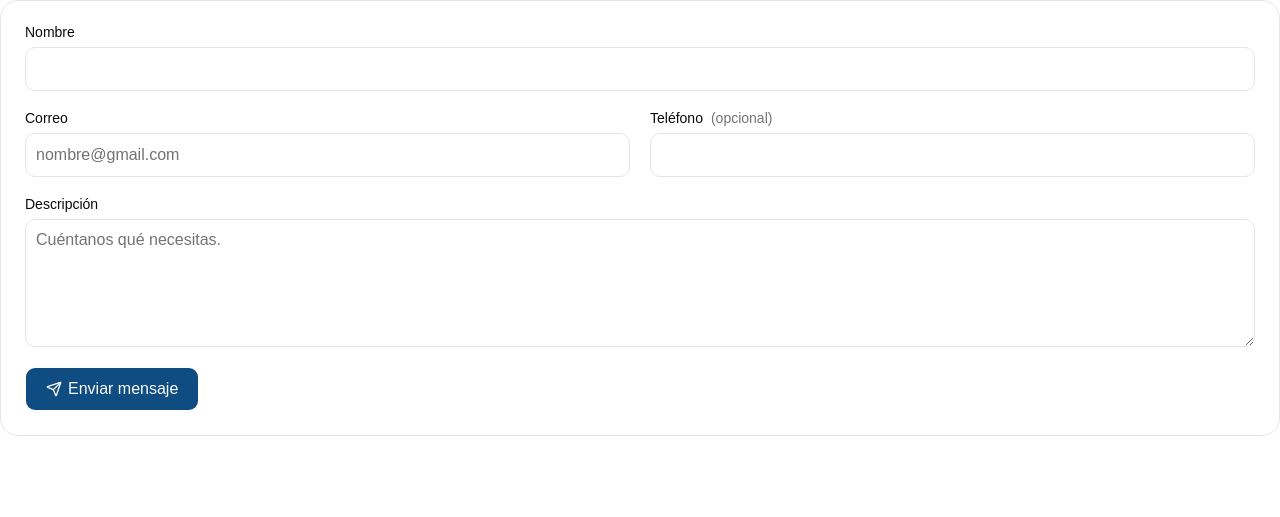
Test: ContactForm › confirma la recepción cuando el envío termina bien
Type "Ana" into the field labelled "Nombre". click: [640, 69]
box: x1=25 y1=47 x2=1255 y2=91
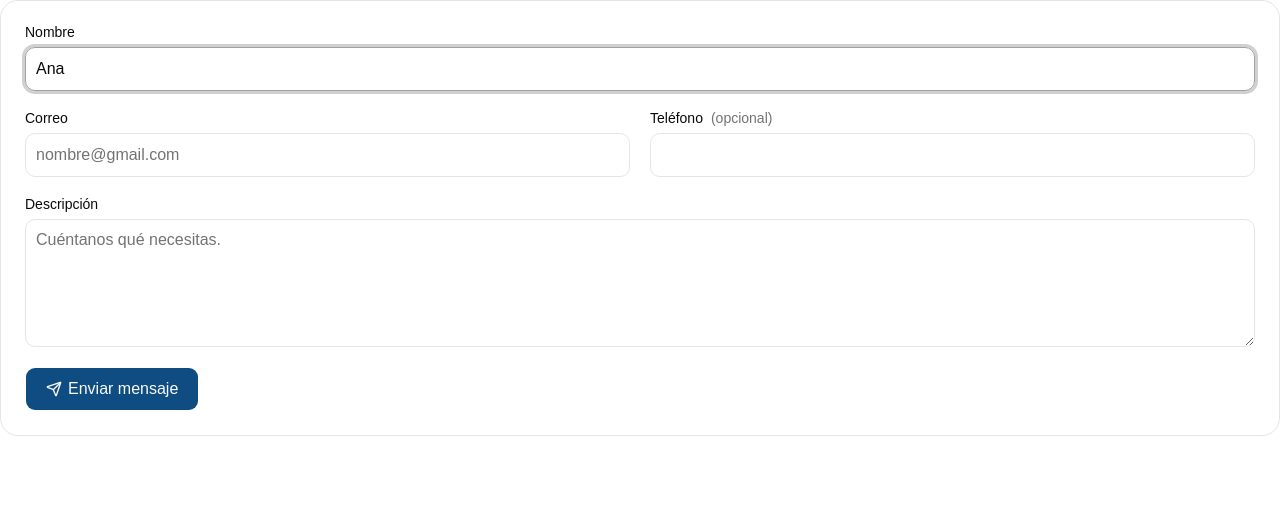
Type "ana@gmail.com" into the field labelled "Correo". click: [328, 155]
box: x1=25 y1=133 x2=630 y2=177
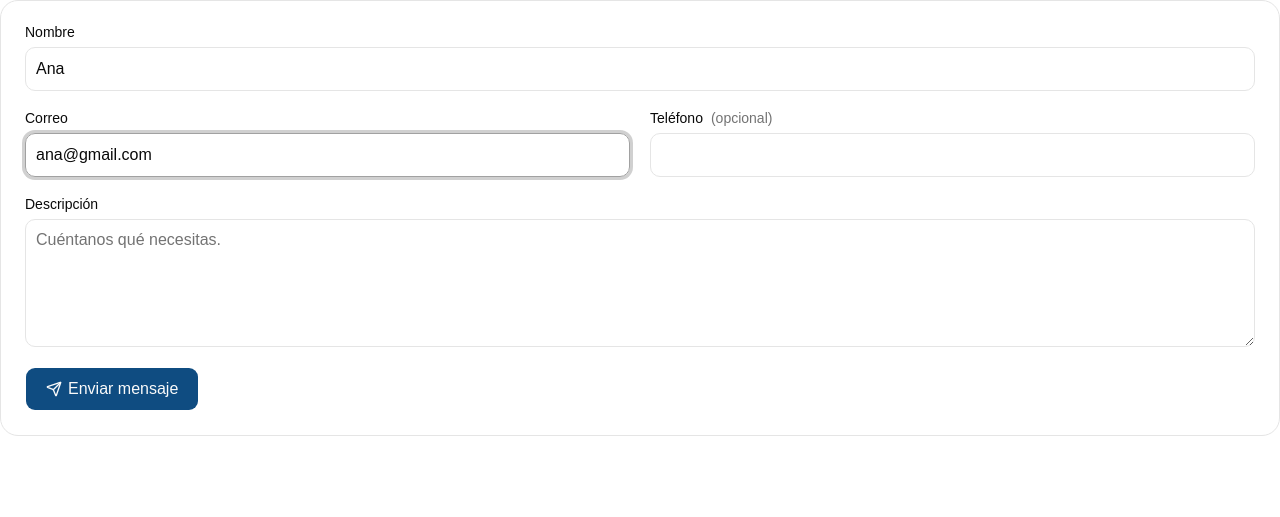
Type "Quiero publicar mi casa." into the text box labelled "Descripción". click: [640, 283]
box: x1=25 y1=219 x2=1255 y2=347
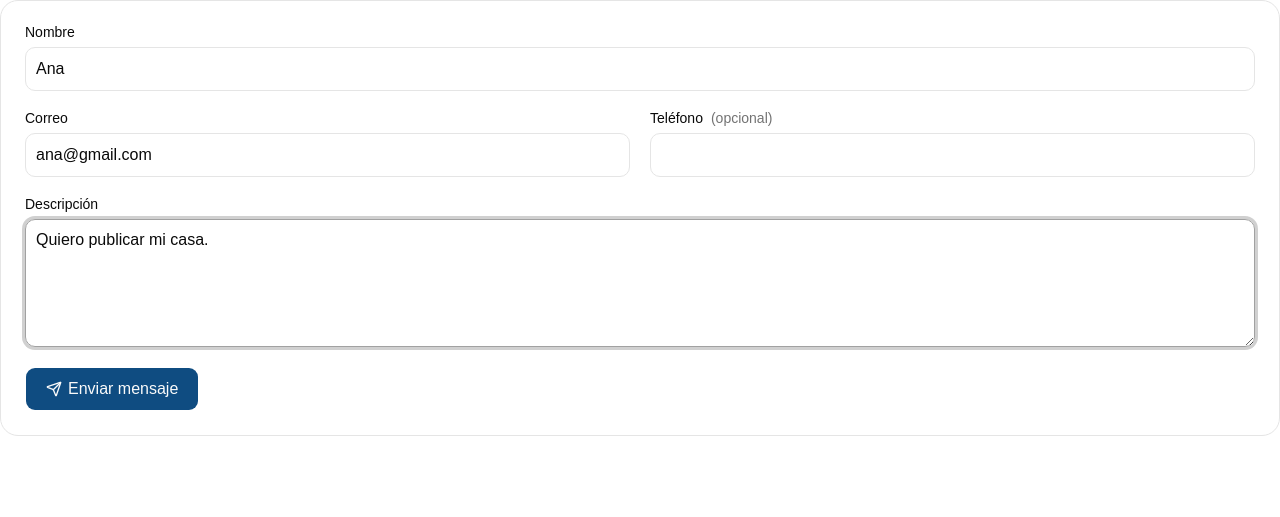
Click the button "Enviar mensaje". click: [112, 389]
box: x1=25 y1=367 x2=199 y2=411
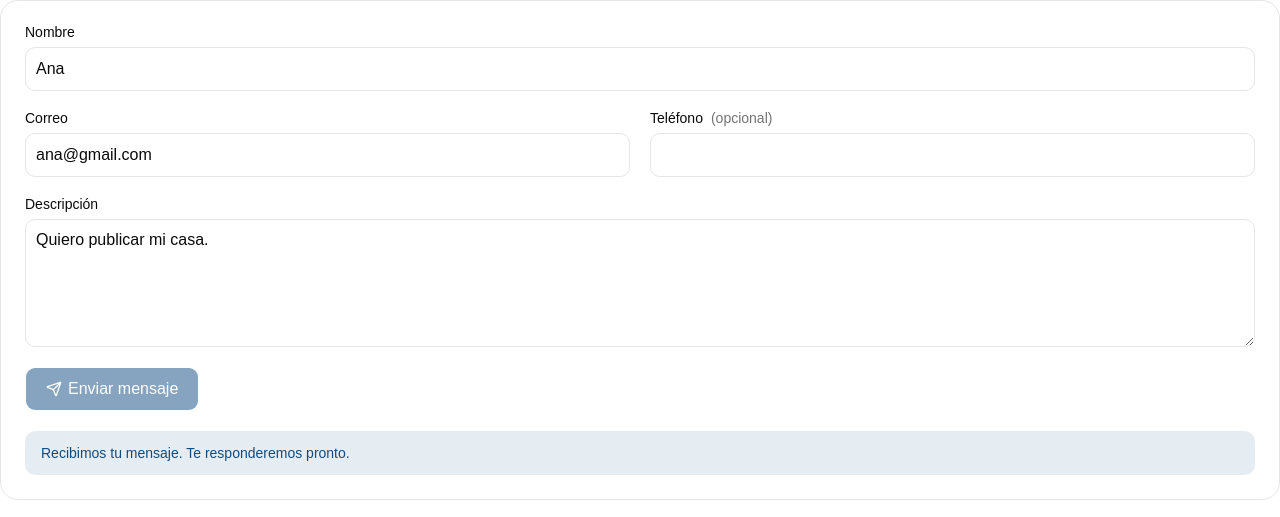
Expected: the message reads "Recibimos tu mensaje. Te responderemos pronto.", x1=41 y1=445 x2=350 y2=461
